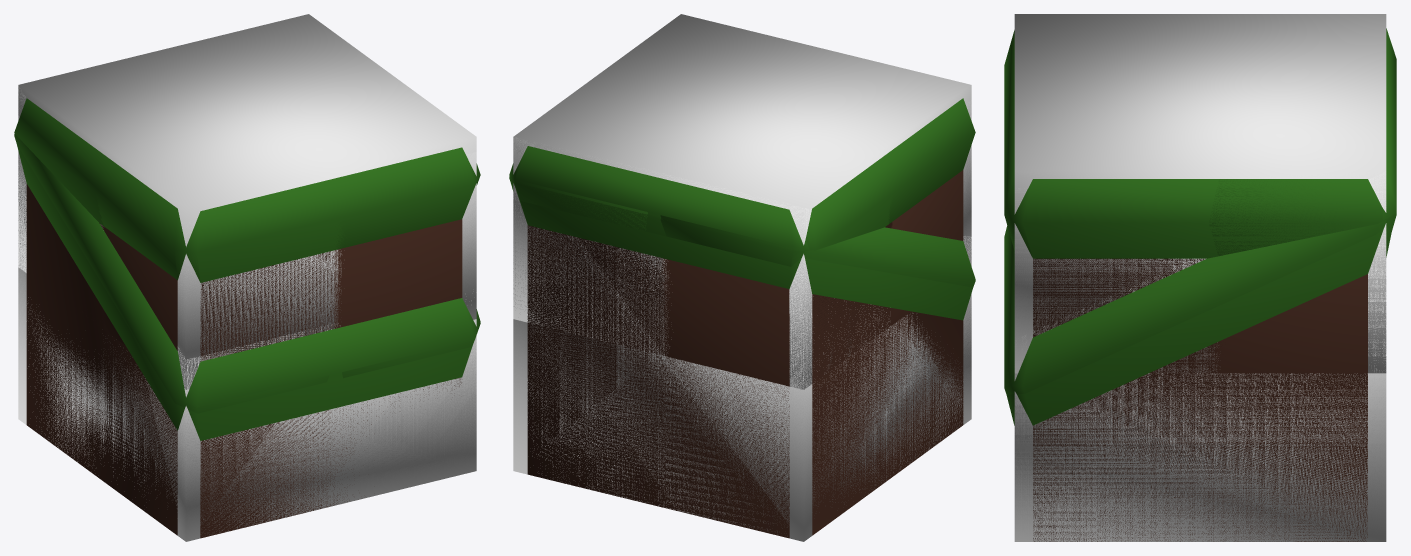
The model's file is cubeys_pieces.glb.
3 views of the same model, side by side, from view 1: azimuth 30°, elevation 25°; view 2: azimuth 150°, elevation 25°; view 3: azimuth 270°, elevation 25° (orthographic). The views are drawn at different scales.
Visible parts, largest first — view 1: grass_flat_phy, grass_ramp, dirt_ramp_phy, path_edge_corner_outer, grass_flat, edge_ramp_L_phy, edge_ramp_R, dirt_ramp, edge_ramp_R_phy, dirt_flat_phy, grass_ramp_phy, edge_ramp_L (+1 smaller); view 2: grass_ramp, grass_flat_phy, dirt_ramp_phy, grass_flat, path_edge_corner_outer, dirt_ramp, edge_ramp_R, edge_ramp_L_phy, edge_ramp_R_phy, dirt_flat_phy, dirt_flat, edge_ramp_L (+2 smaller); view 3: grass_flat_phy, grass_ramp, dirt_ramp_phy, grass_flat, edge_ramp_R_phy, dirt_ramp, path_edge_corner_outer, path_edge_corner_inner, grass_ramp_phy, edge_ramp_R, dirt_flat_phy, dirt_flat (+1 smaller).
Part boxes in pixels (x1,y1,x2,y2): grass_flat_phy: (18, 14, 476, 389); grass_ramp: (14, 133, 480, 538); dirt_ramp_phy: (18, 115, 476, 541); path_edge_corner_outer: (95, 147, 480, 350); grass_flat: (14, 98, 480, 361); edge_ramp_L_phy: (18, 85, 476, 540); edge_ramp_R: (26, 184, 480, 516); dirt_ramp: (26, 290, 371, 536); edge_ramp_R_phy: (18, 118, 476, 541); dirt_flat_phy: (18, 100, 476, 389); grass_ramp_phy: (188, 319, 476, 469); edge_ramp_L: (14, 135, 329, 413); grass_ramp: (509, 146, 975, 538); grass_flat_phy: (513, 14, 971, 389); dirt_ramp_phy: (513, 168, 971, 541); grass_flat: (509, 151, 896, 382); path_edge_corner_outer: (659, 98, 975, 386); dirt_ramp: (527, 226, 918, 527); edge_ramp_R: (509, 178, 963, 517); edge_ramp_L_phy: (515, 168, 971, 541); edge_ramp_R_phy: (513, 137, 971, 541); dirt_flat_phy: (513, 100, 971, 389); dirt_flat: (527, 226, 890, 381); edge_ramp_L: (660, 215, 975, 287); grass_flat_phy: (1014, 14, 1386, 373); grass_ramp: (1004, 28, 1396, 541); dirt_ramp_phy: (1014, 205, 1386, 541); grass_flat: (1004, 30, 1396, 373); edge_ramp_R_phy: (1014, 171, 1386, 541); dirt_ramp: (1033, 346, 1367, 541); path_edge_corner_outer: (1004, 102, 1367, 373); path_edge_corner_inner: (1209, 179, 1396, 255); grass_ramp_phy: (1014, 173, 1386, 541); edge_ramp_R: (1004, 209, 1396, 540); dirt_flat_phy: (1014, 188, 1386, 373); dirt_flat: (1033, 258, 1215, 372).
Bounding box in the file's own units: 1.05 × 1.1 × 1.05.
